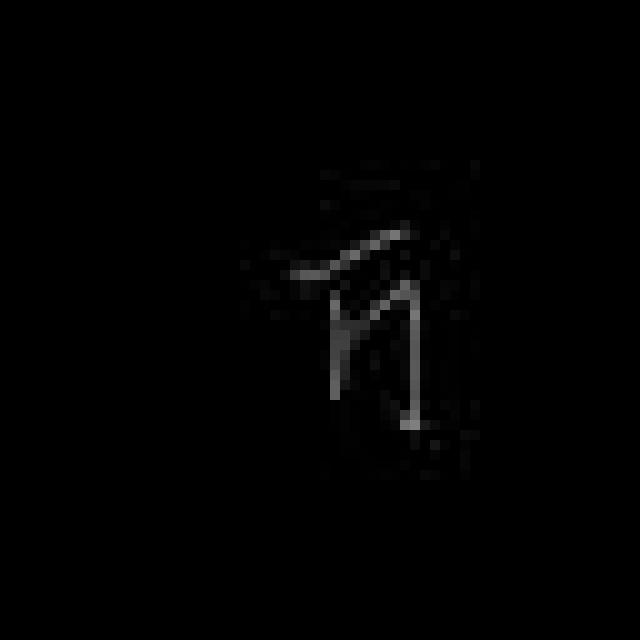10000 -a ten thousand-: (278, 215, 448, 440)
